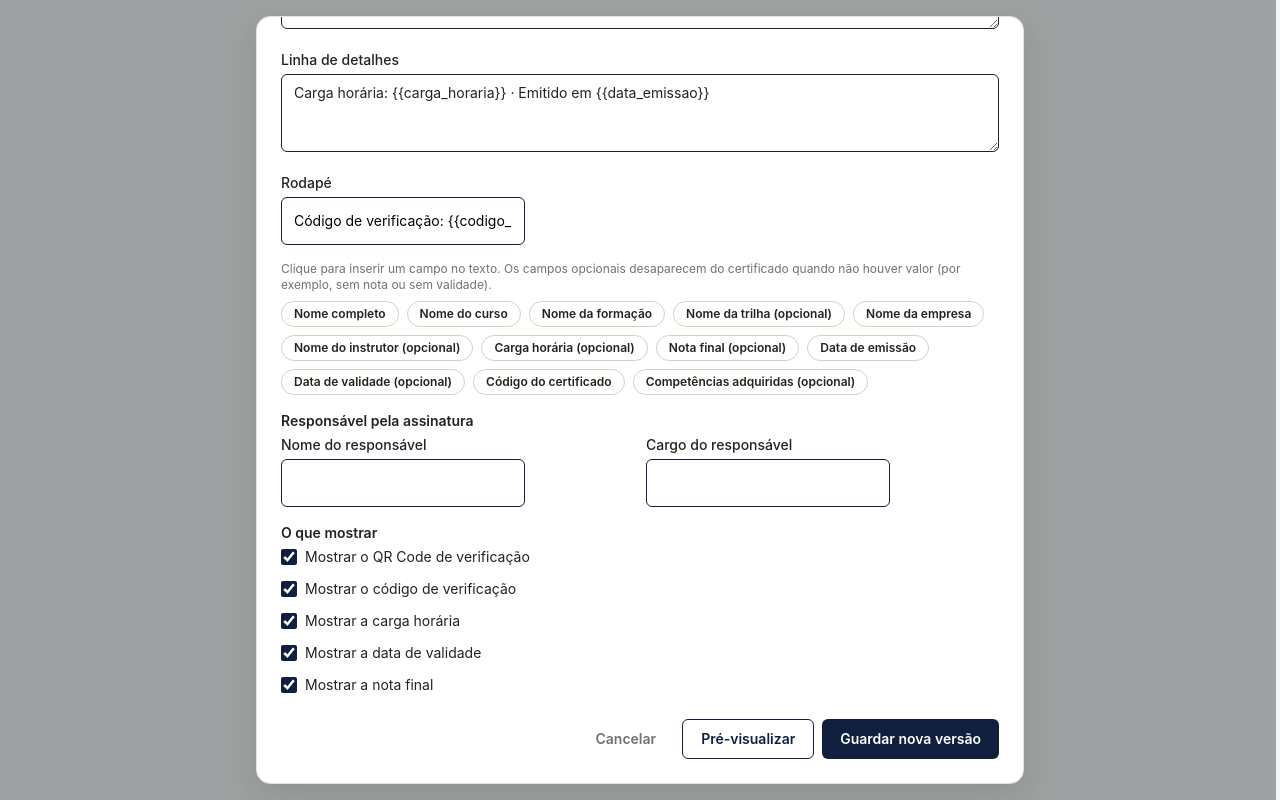
Scenario: TemplateEditorModal › erro do servidor aparece no editor e não o fecha
The width and height of the screenshot is (1280, 800).
(page scrolled)
Click the button "Guardar nova versão".
click(911, 739)  # box [822, 719, 999, 759]
(page scrolled)
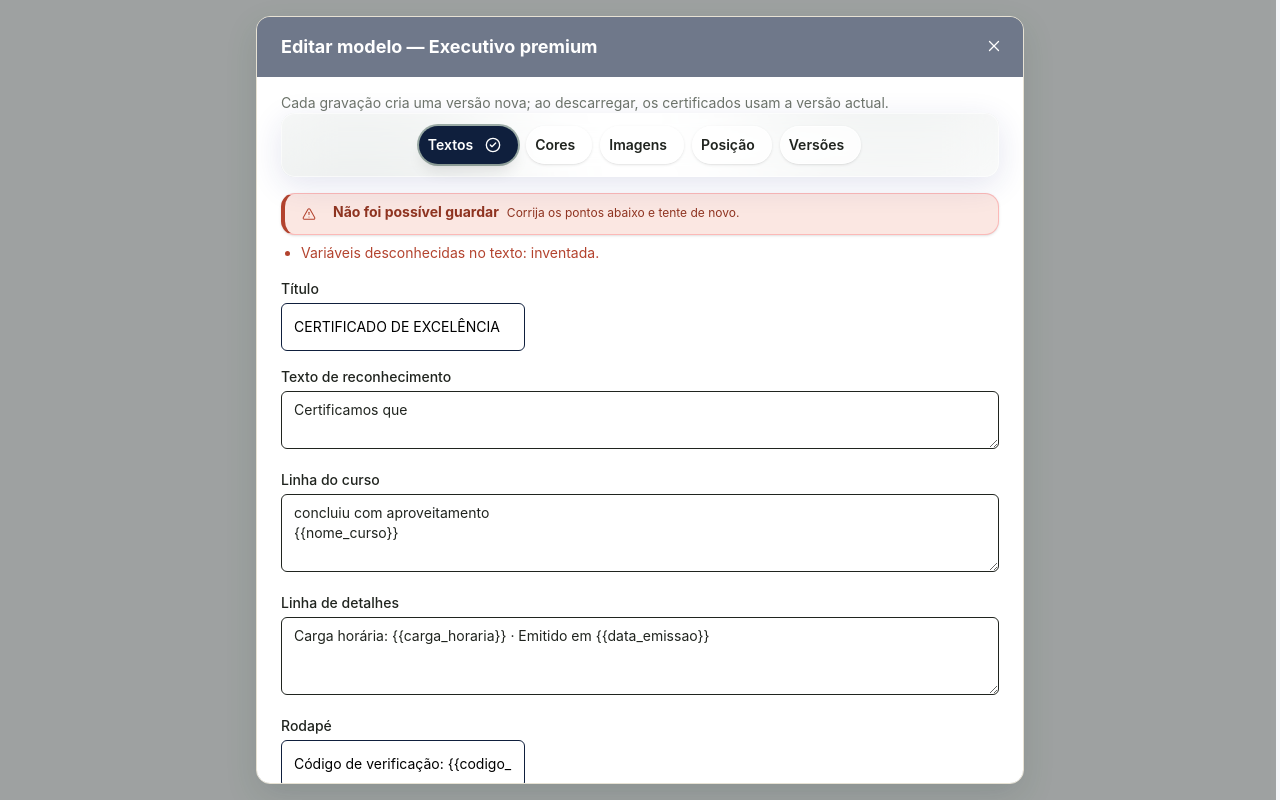
expect the list item "Variáveis desconhecidas no texto: inventada." is shown: met, box [301, 244, 599, 261]
